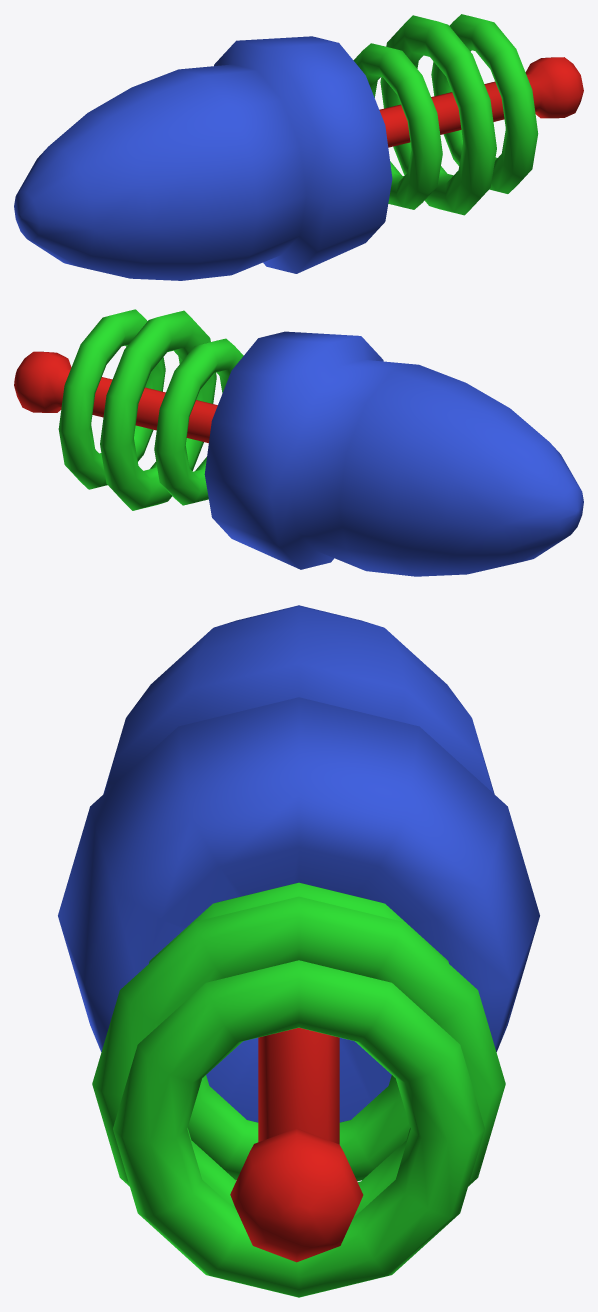
File: Laser_LP.fbx
The picture shows the model from 3 angles, top to bottom: view 1: azimuth 30°, elevation 25°; view 2: azimuth 150°, elevation 25°; view 3: azimuth 270°, elevation 25°; orthographic projection. The views are drawn at different scales.
Parts seen in each view (by area): view 1: Laser_LP; view 2: Laser_LP; view 3: Laser_LP.
Boxes of the visible parts, x1,y1,x2,y2 form: Laser_LP: (14,14,583,280); Laser_LP: (14,309,583,576); Laser_LP: (58,605,539,1297).
Size of the model in its own units: 122 by 45.35 by 45.35.
